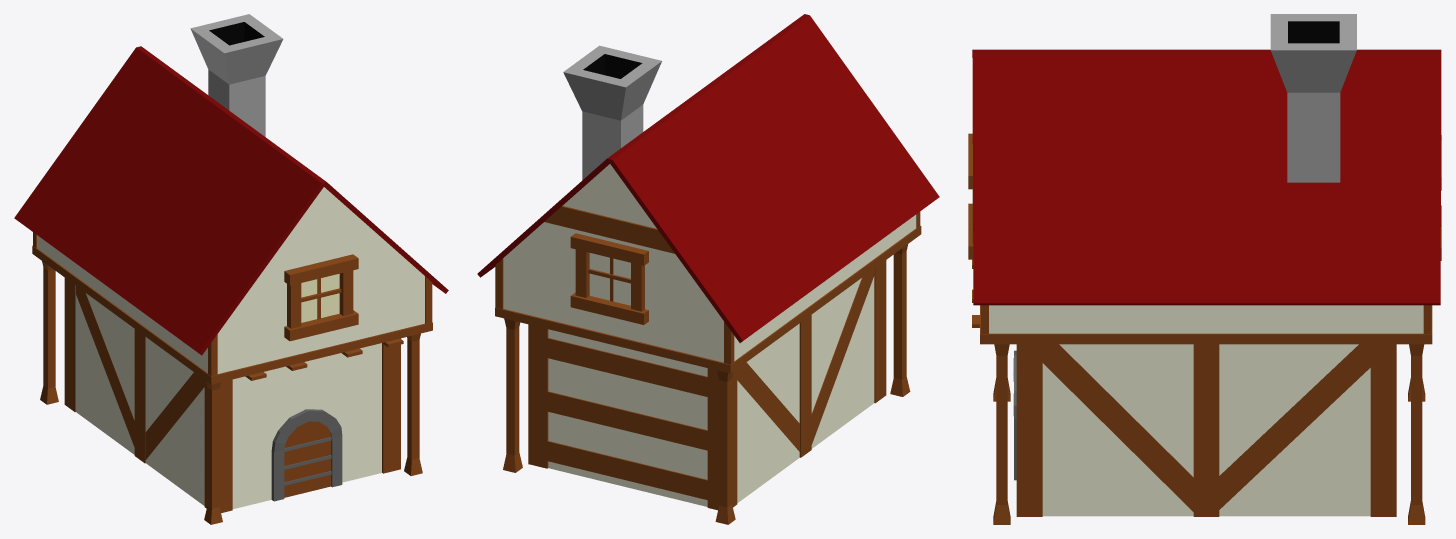
3 renders of one model, left to right at view 1: azimuth 30°, elevation 25°; view 2: azimuth 150°, elevation 25°; view 3: azimuth 270°, elevation 25°, orthographic. The views are drawn at different scales.
Parts seen in each view (by area): view 1: House1; view 2: House1; view 3: House1.
Boxes of the visible parts, x1,y1,x2,y2 form: House1: (14,14,448,524); House1: (477,14,939,524); House1: (968,14,1441,524).
Bounding box in the file's own units: 1097 × 1515 × 1424.
